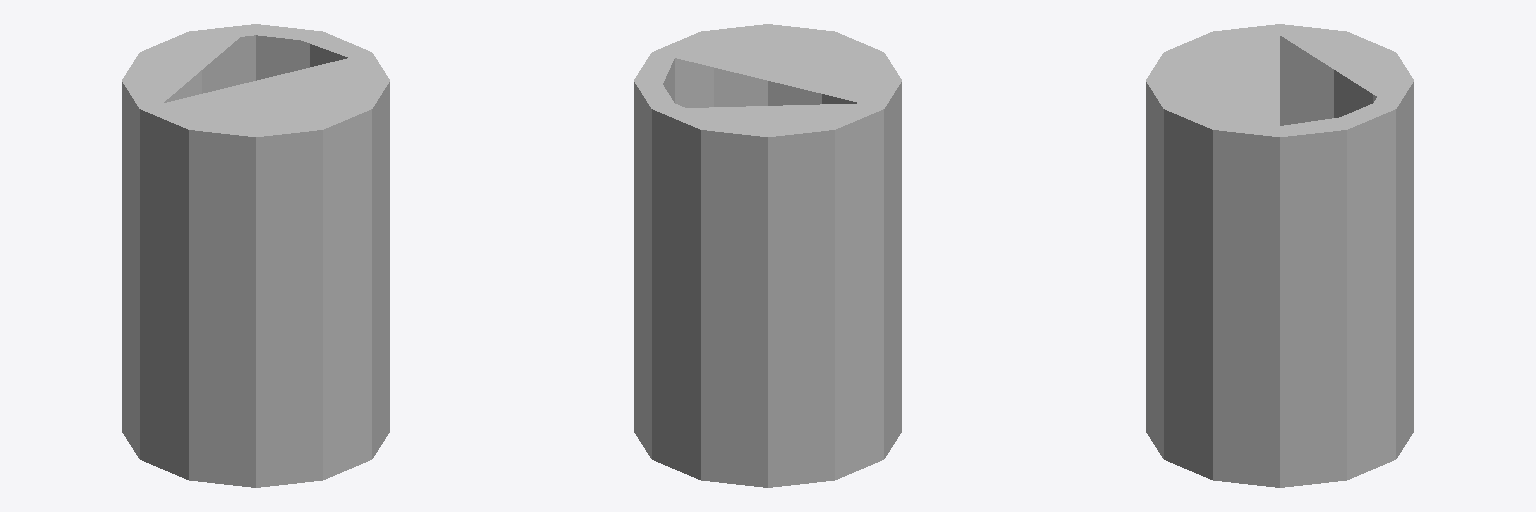
The model's file is Verre.obj.
3 renders of one model, left to right at view 1: azimuth 30°, elevation 25°; view 2: azimuth 150°, elevation 25°; view 3: azimuth 270°, elevation 25°, orthographic.
Visible parts, largest first — view 1: Cylinder.000_Cylinder.005; view 2: Cylinder.000_Cylinder.005; view 3: Cylinder.000_Cylinder.005.
Boxes of the visible parts, <box> form: Cylinder.000_Cylinder.005: <box>122,24,389,487</box>; Cylinder.000_Cylinder.005: <box>634,24,901,487</box>; Cylinder.000_Cylinder.005: <box>1146,24,1413,487</box>.
Size of the model in its own units: 0.125 by 0.18 by 0.125.